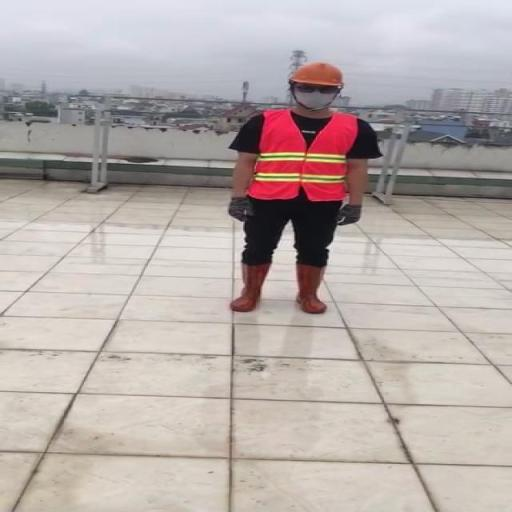Boots: (228, 262, 272, 312), (292, 262, 332, 314)
Helmet: (289, 62, 348, 87)
Person: (215, 62, 382, 316)
